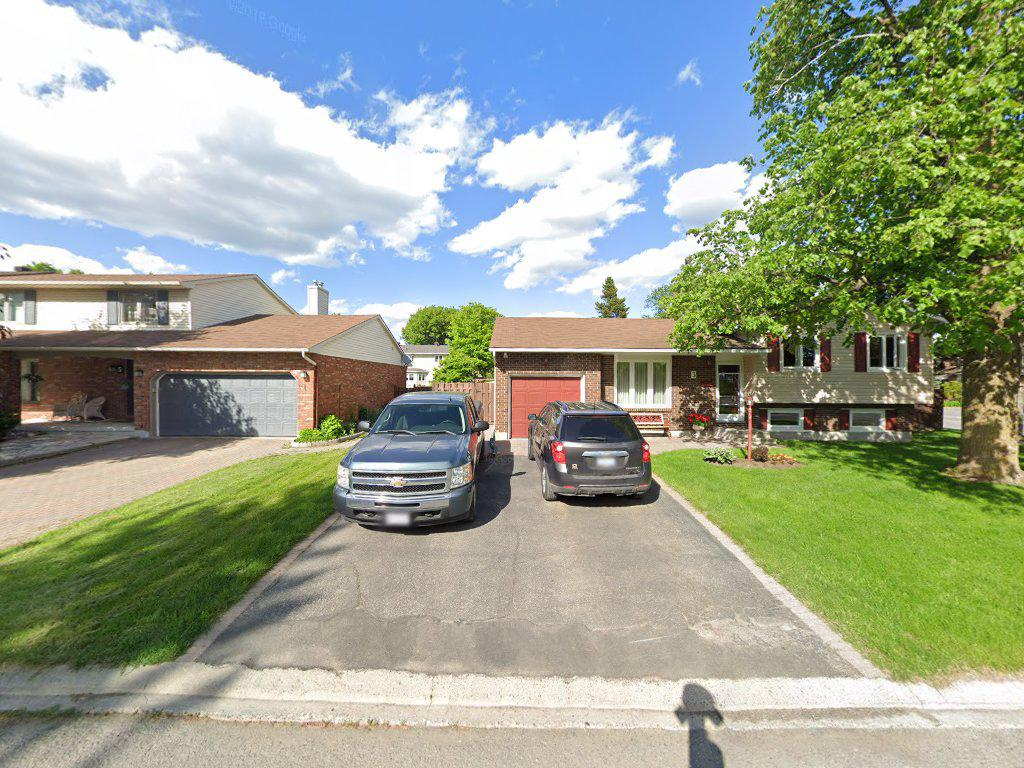trunk: (956, 324, 1024, 500)
